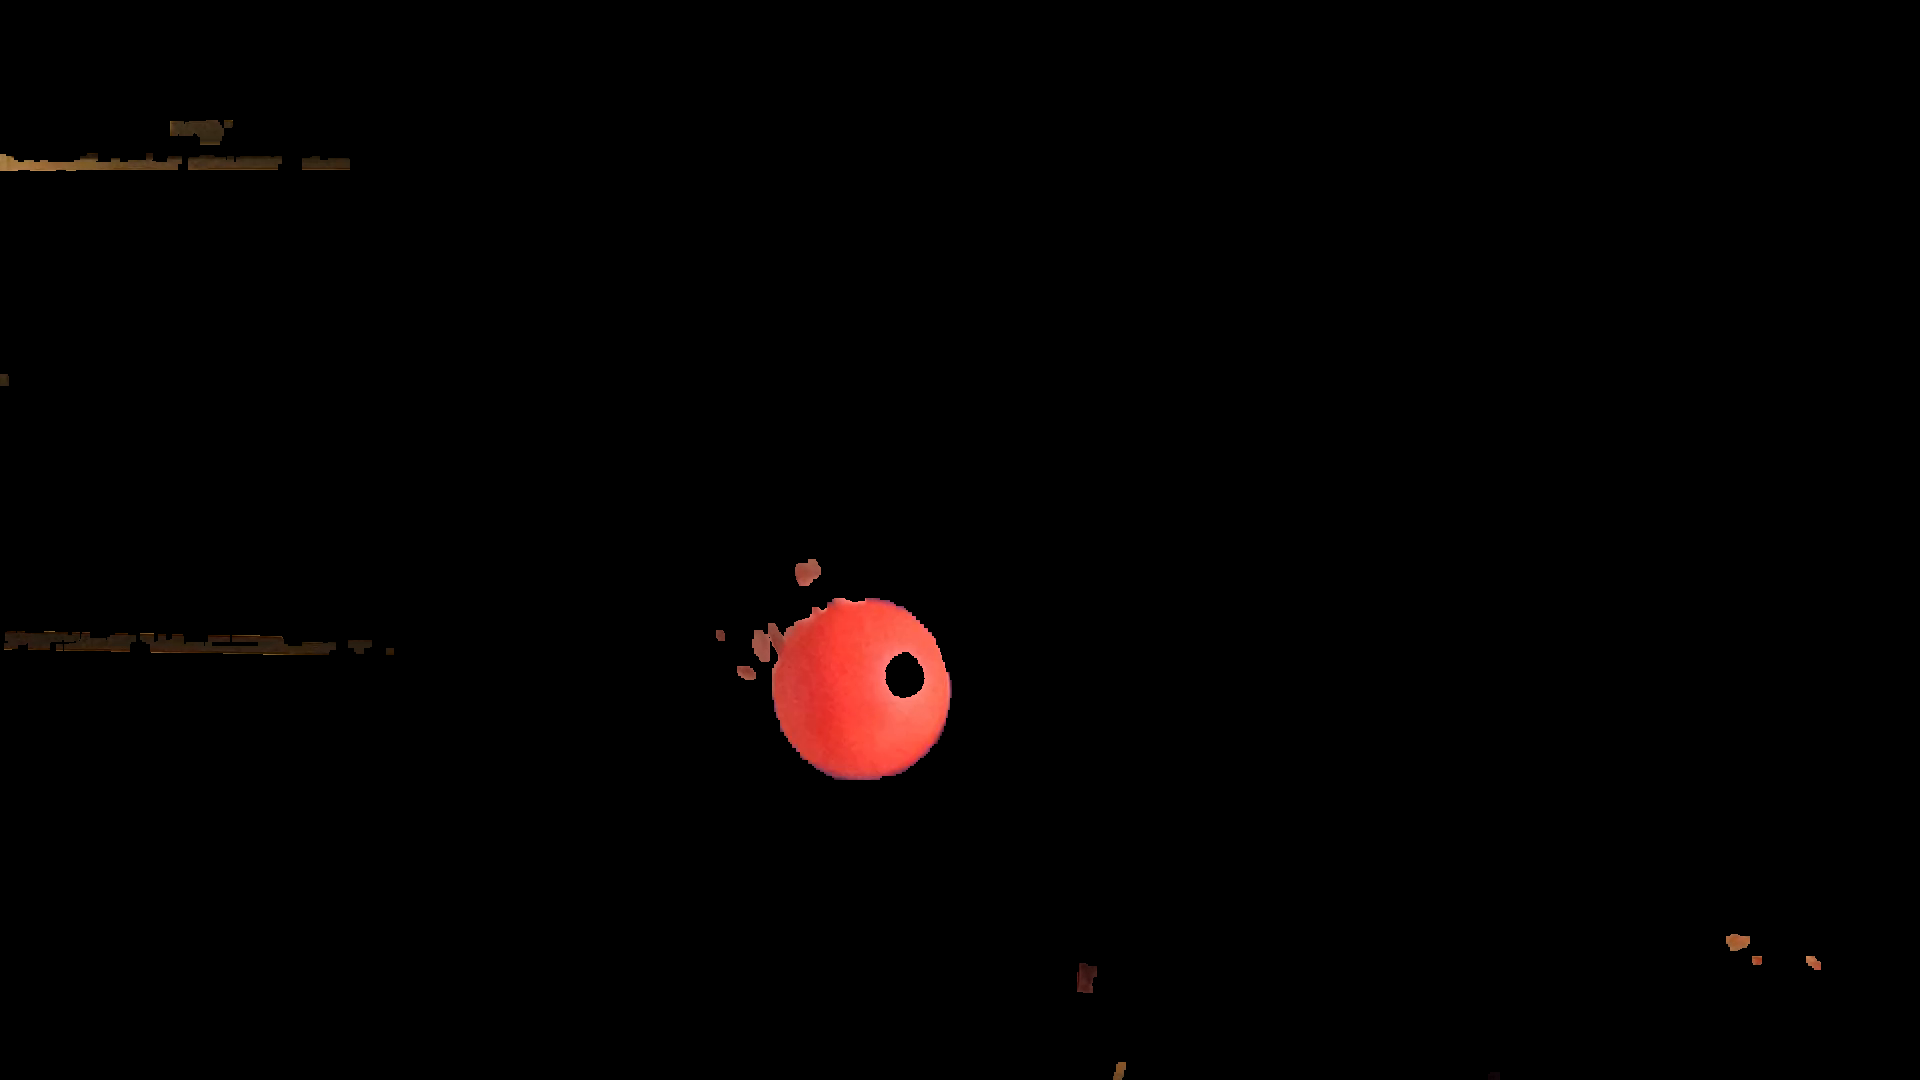Ball: (775, 597, 949, 783)
